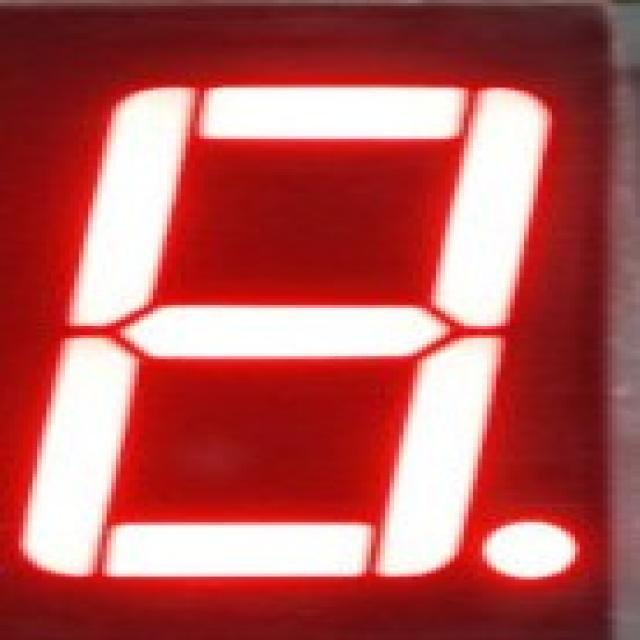.: (475, 517, 590, 581)
8: (16, 73, 558, 578)
